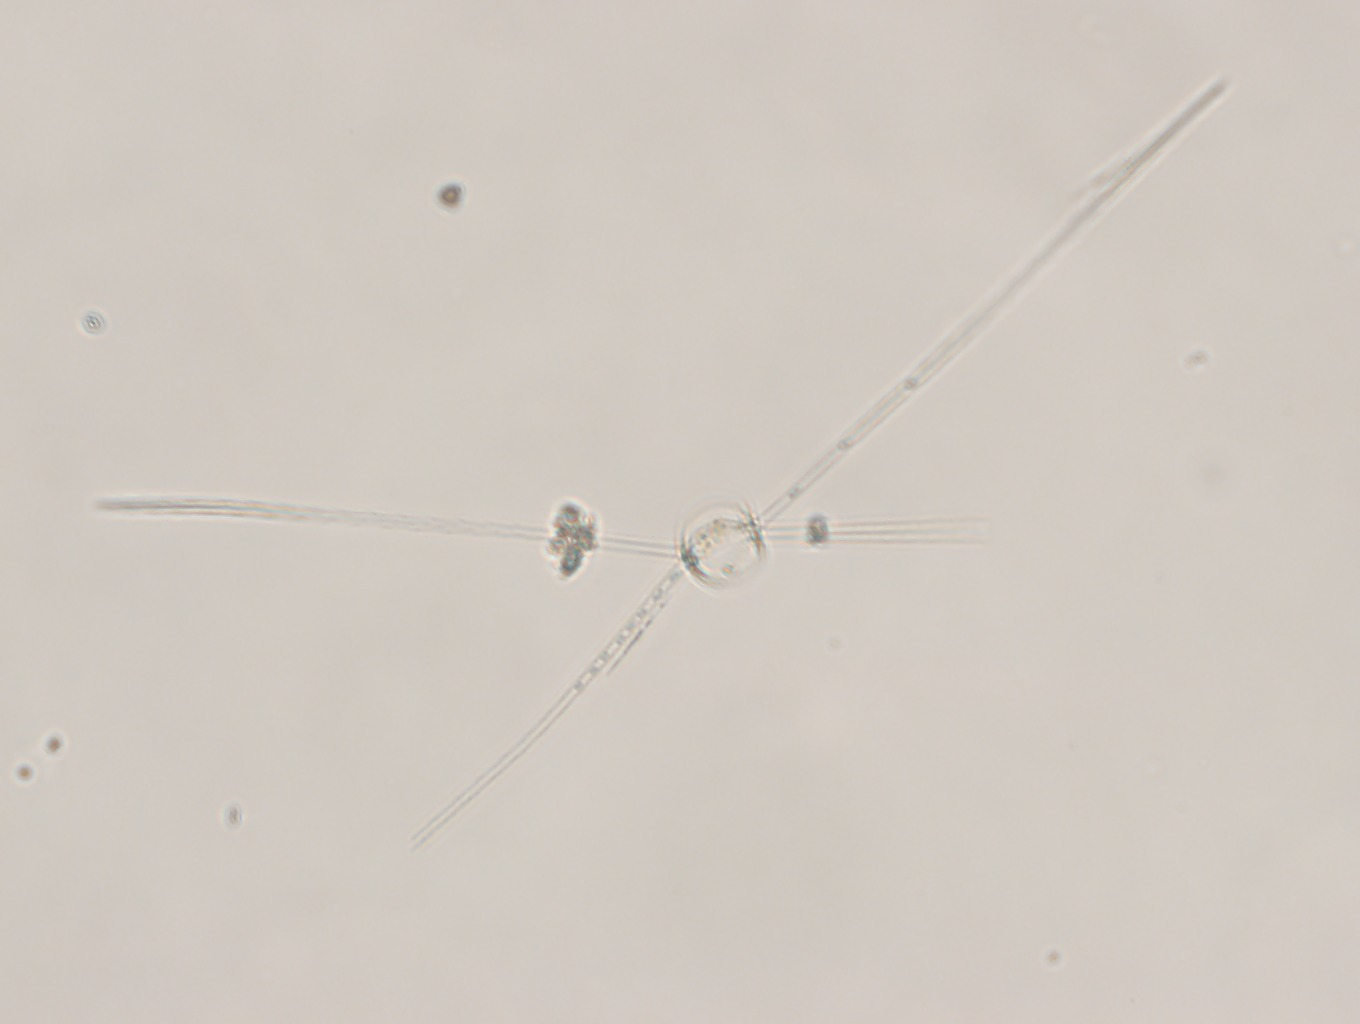chaetoceros: (89, 69, 1236, 863)
